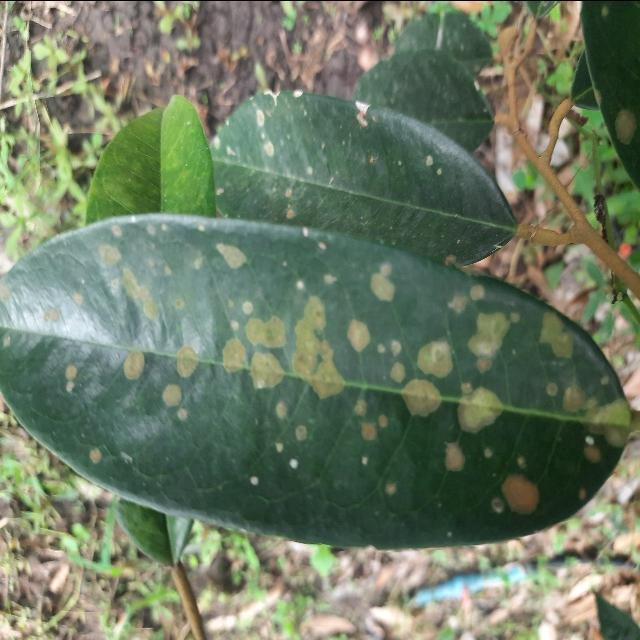Algal Leaf Spot: (0, 203, 639, 557)
